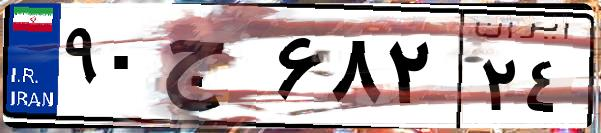0: (110, 28, 158, 98)
2: (385, 28, 445, 110), (475, 38, 525, 113)
4: (525, 38, 570, 115)
6: (270, 28, 330, 110)
8: (330, 28, 385, 110)
9: (57, 26, 110, 100)
ج: (158, 20, 270, 120)
